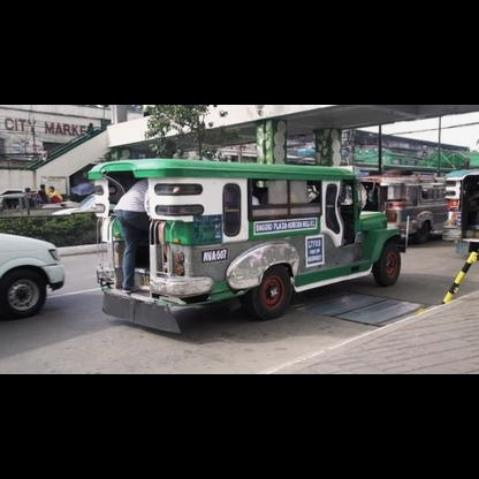jeepney: (78, 146, 412, 334)
